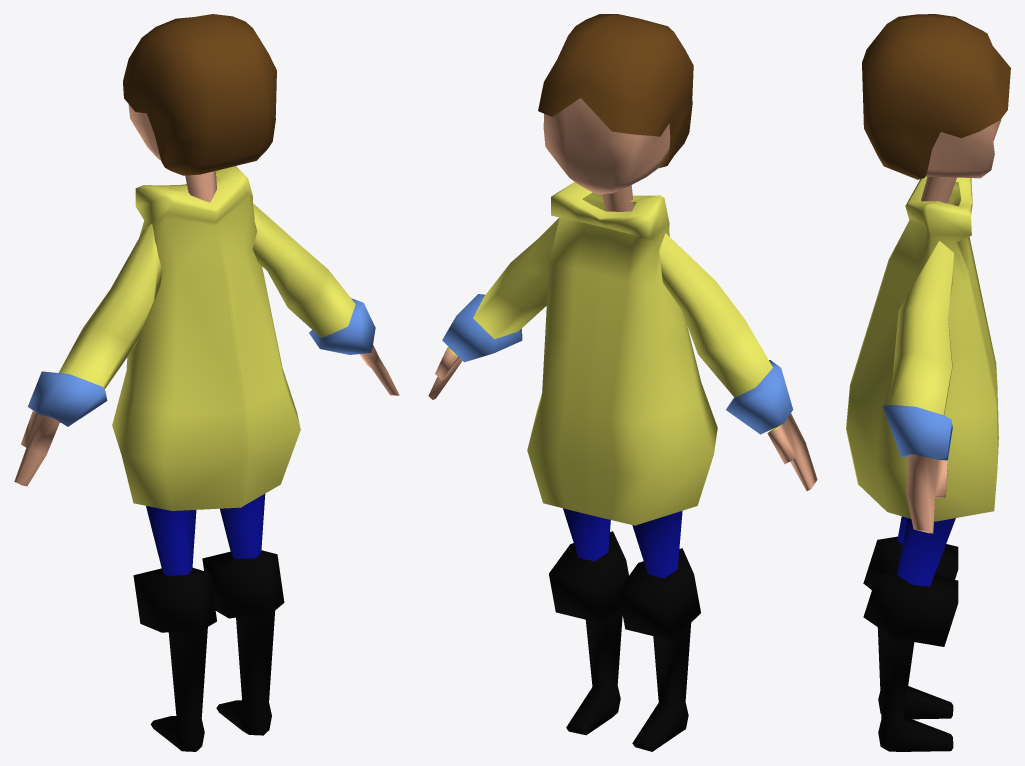
The model's file is Boy3.fbx.
The picture shows the model from 3 angles, left to right: view 1: azimuth 30°, elevation 25°; view 2: azimuth 150°, elevation 25°; view 3: azimuth 270°, elevation 25°; orthographic projection.
Visible parts, largest first — view 1: Player; view 2: Player; view 3: Player.
Boxes of the visible parts, left/top/right/bottom form: Player: left=14, top=14, right=399, bottom=751; Player: left=428, top=14, right=817, bottom=751; Player: left=846, top=14, right=1010, bottom=751.
Bounding box in the file's own units: 450 × 169 × 796.
